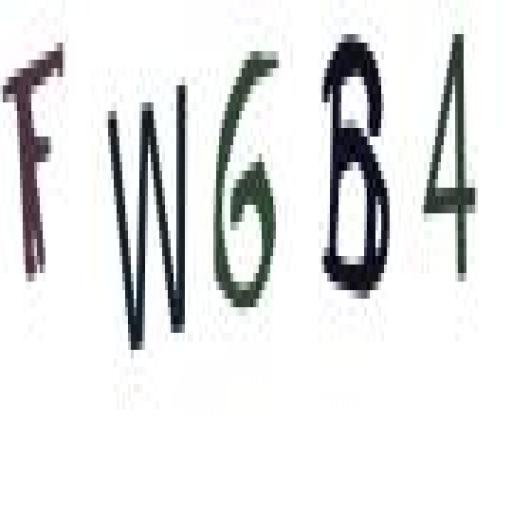4: (417, 17, 481, 298)
6: (204, 26, 282, 327)
B: (314, 23, 398, 314)
F: (2, 36, 69, 300)
W: (104, 76, 189, 367)
